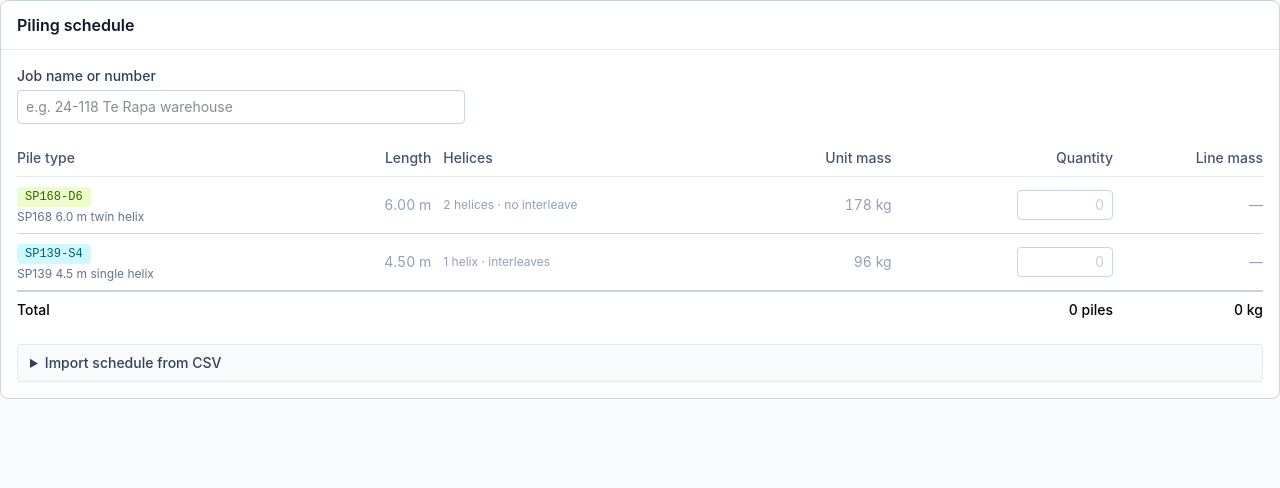
Test case: quantities › records a quantity and shows the line mass
Type "120" into the field named "Quantity of SP168-D6" at (1065,205), box [1017,190,1113,220]
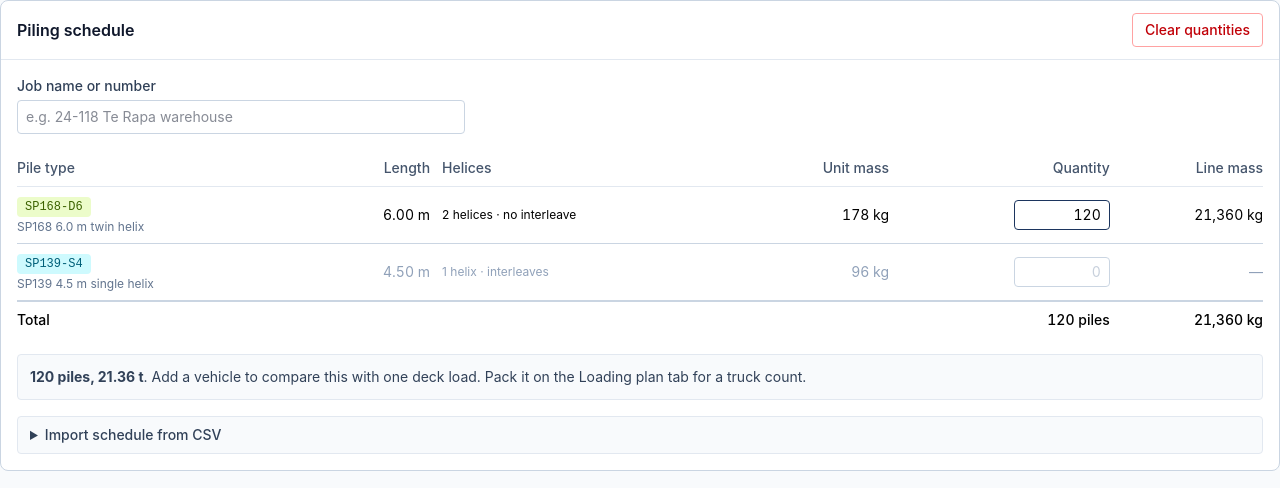
Check: the text "21,360 kg" in the row of "SP168-D6" is shown, box [1194,206,1263,223]
